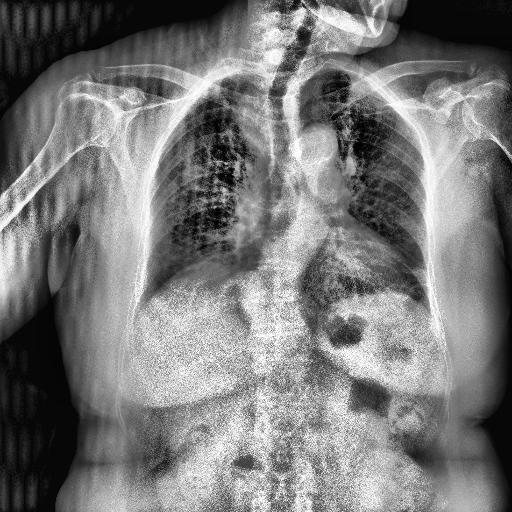0- Aortic enlargement: (256, 166, 354, 212), (293, 120, 348, 190)
1- Atelectasis: (167, 258, 255, 286)
13- Pulmonary fibrosis: (385, 261, 434, 296)
2- Calcification: (310, 126, 341, 166)
3- Cardiomegaly: (230, 197, 436, 312), (246, 226, 412, 302)
5- ILD: (358, 250, 439, 310)
7- Lung Opacity: (230, 71, 271, 148), (236, 72, 274, 155)
